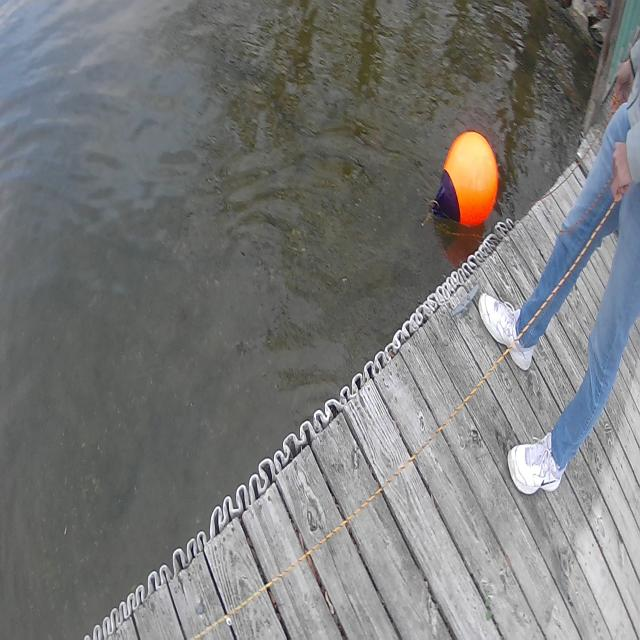Buoy: (431, 124, 500, 236)
